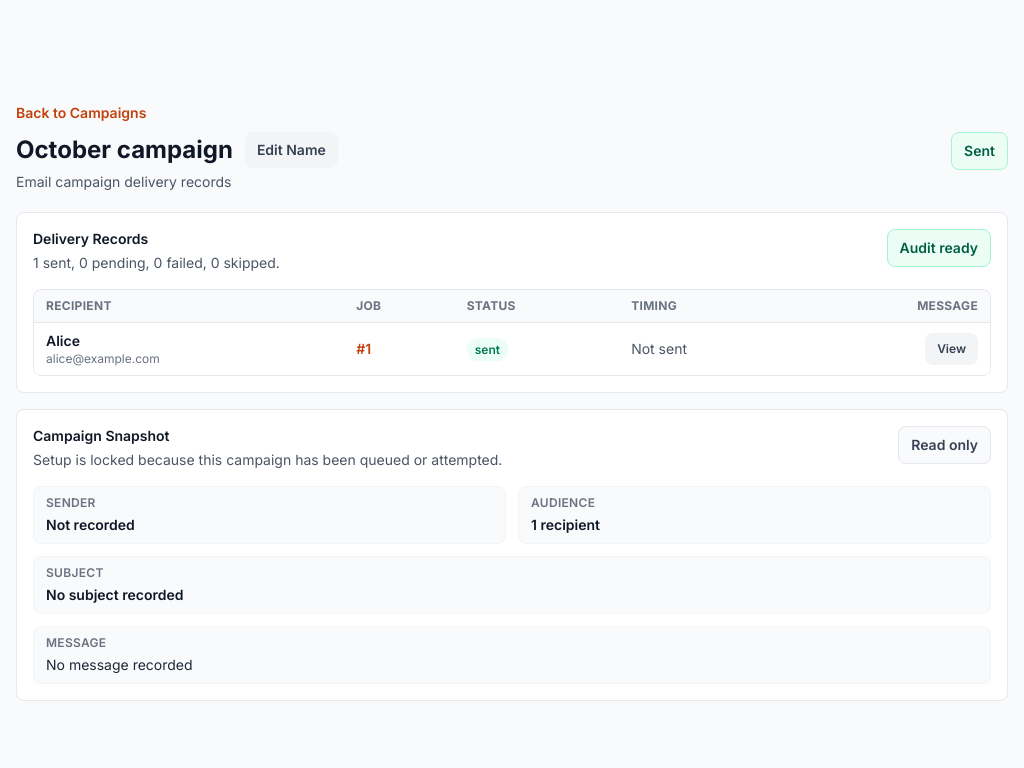
Scenario: renames a finished campaign
Click the button "Edit Name" at (291, 150), box [245,132,338,168]
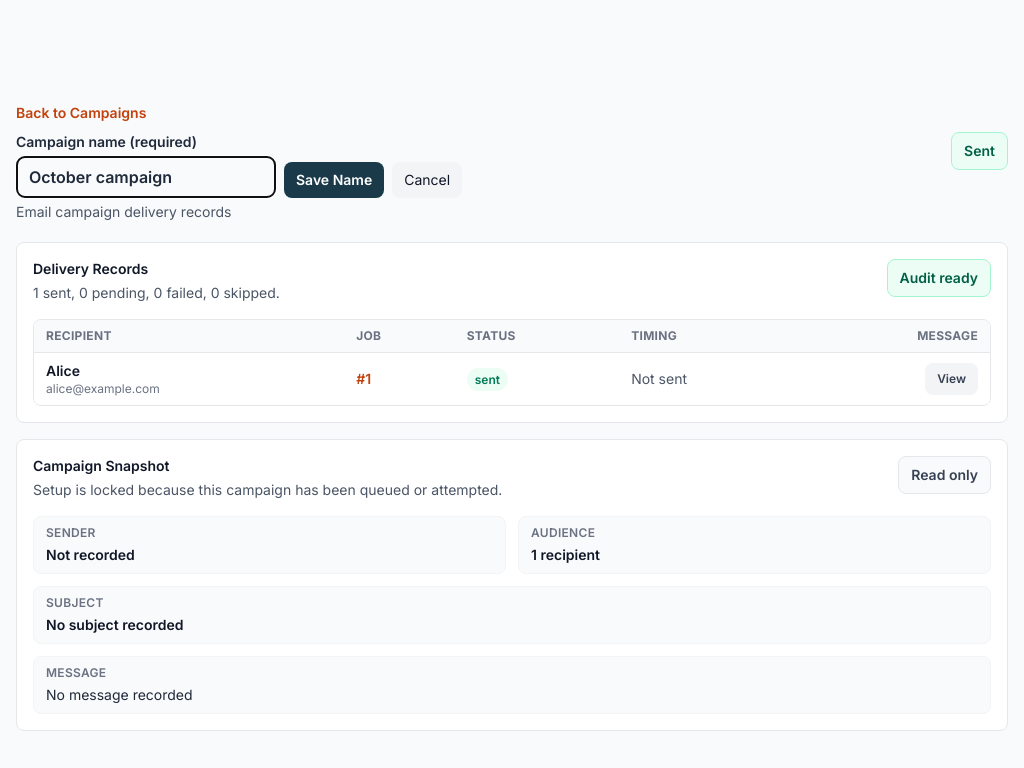
Replace the text in the field labelled "Campaign name (required)" with "  Renamed campaign  " at (146, 177), box [16,156,276,198]
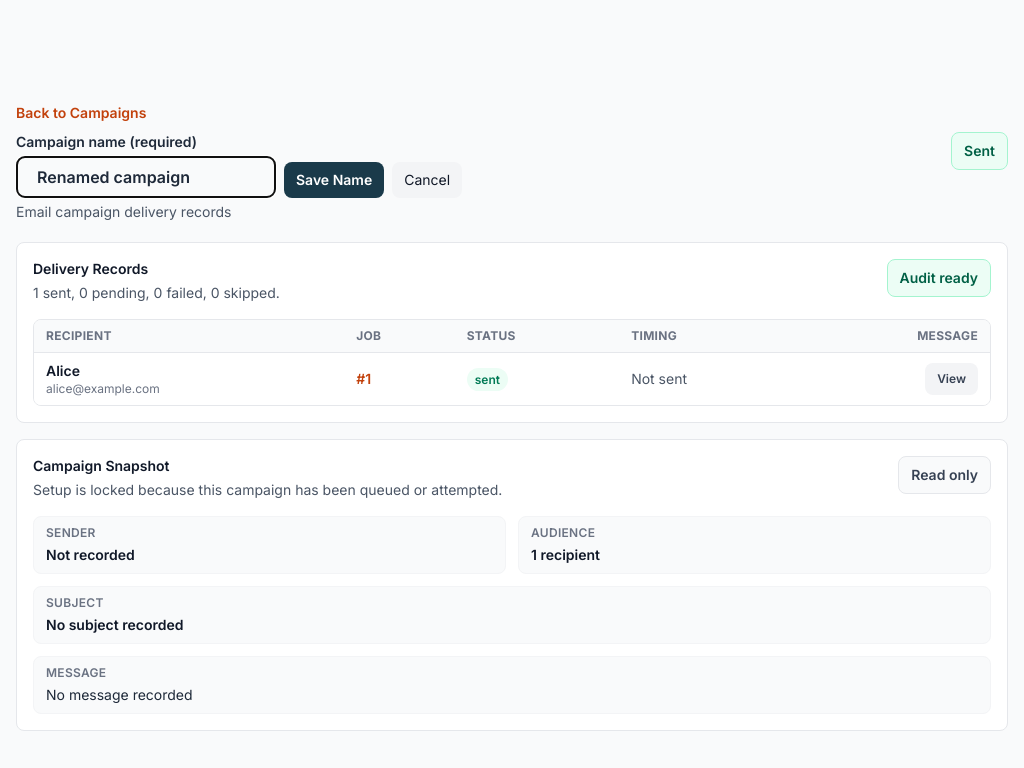
Click the button "Save Name" at (334, 180), box [284,162,384,198]
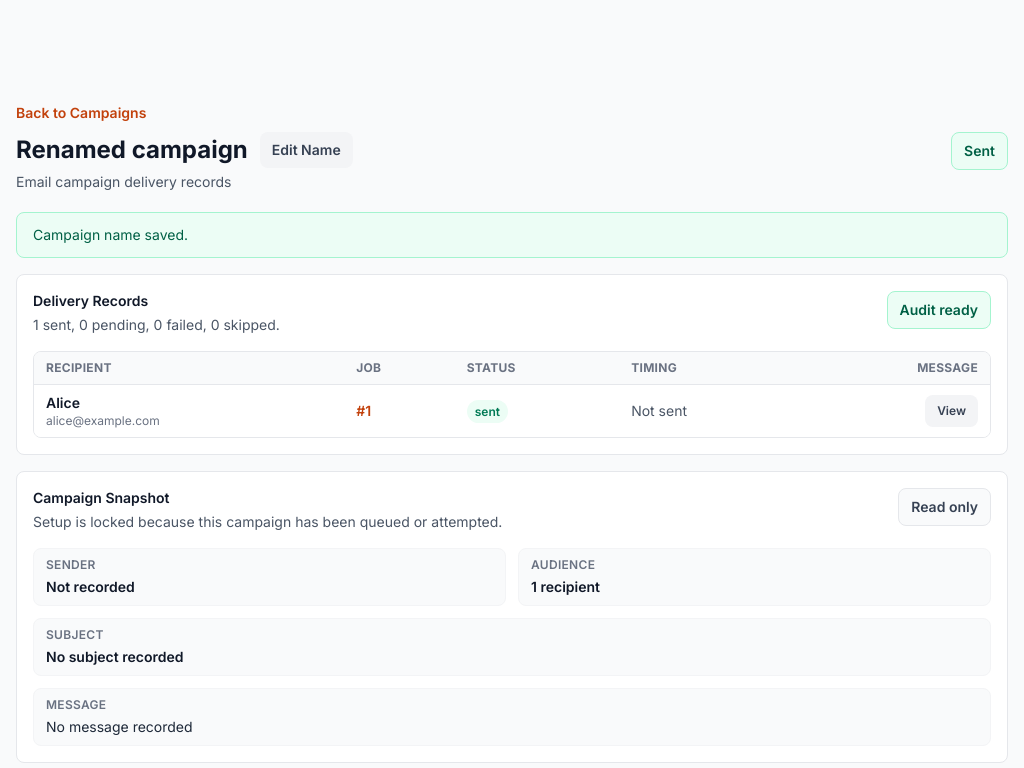
Check: the heading "Renamed campaign" is shown, box [16,134,248,166]
